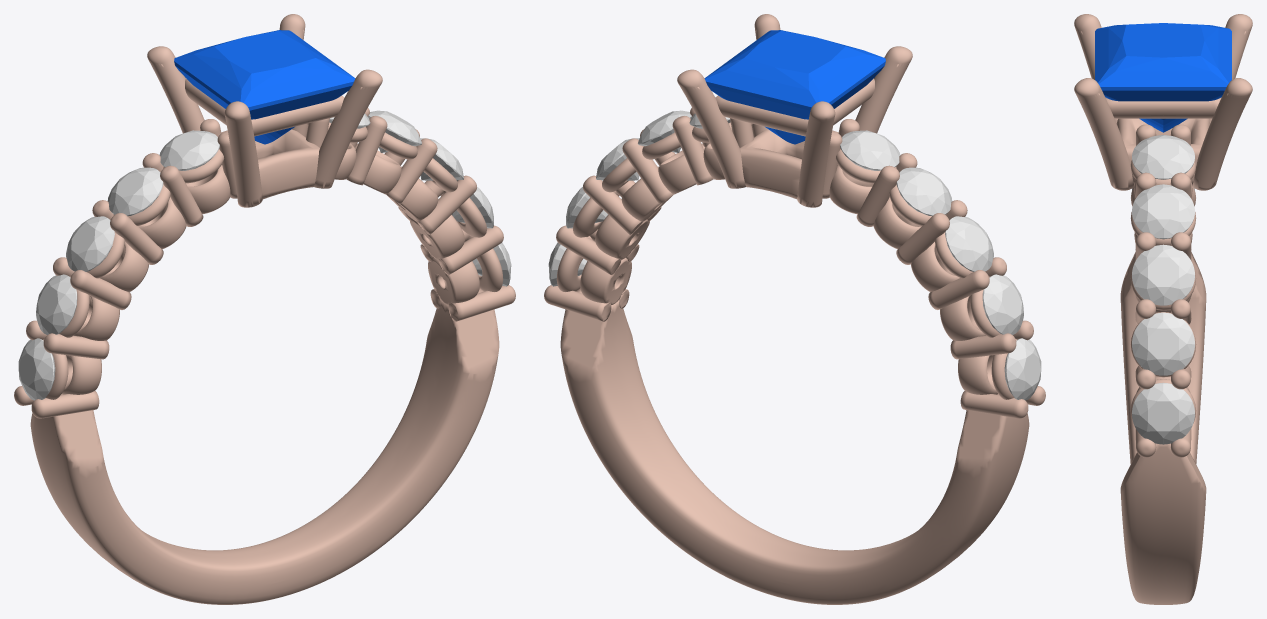
The model's file is bluesapphire-princess-rosegold-4prong-straighttaperedband-11stone.glb.
3 views of the same model, side by side, from view 1: azimuth 30°, elevation 25°; view 2: azimuth 150°, elevation 25°; view 3: azimuth 270°, elevation 25° (orthographic).
Visible parts, largest first — view 1: metal, stone, side.002, side.003, side.001, side.004, side, side.008, side.007; view 2: metal, stone, side.002, side.003, side.001, side.004, side, side.008, side.007; view 3: metal, stone, side.006, side.005, side.007, side.008, side.009.
Part boxes in pixels (<box>): metal: <box>14,14,515,604</box>; stone: <box>174,30,355,144</box>; side.002: <box>66,216,114,271</box>; side.003: <box>107,167,163,216</box>; side.001: <box>36,274,77,334</box>; side.004: <box>159,130,219,170</box>; side: <box>18,338,55,400</box>; side.008: <box>368,110,421,152</box>; side.007: <box>420,138,463,180</box>; metal: <box>544,14,1045,604</box>; stone: <box>704,30,885,144</box>; side.002: <box>945,216,993,271</box>; side.003: <box>896,167,952,216</box>; side.001: <box>982,274,1023,334</box>; side.004: <box>840,130,900,170</box>; side: <box>1004,338,1041,400</box>; side.008: <box>638,110,691,152</box>; side.007: <box>596,138,639,180</box>; metal: <box>1074,14,1252,604</box>; stone: <box>1095,23,1231,132</box>; side.006: <box>1132,312,1194,375</box>; side.005: <box>1132,382,1194,444</box>; side.007: <box>1132,244,1194,305</box>; side.008: <box>1132,184,1194,239</box>; side.009: <box>1132,135,1194,179</box>.
Size of the model in its own units: 22 by 23.65 by 7.08.
